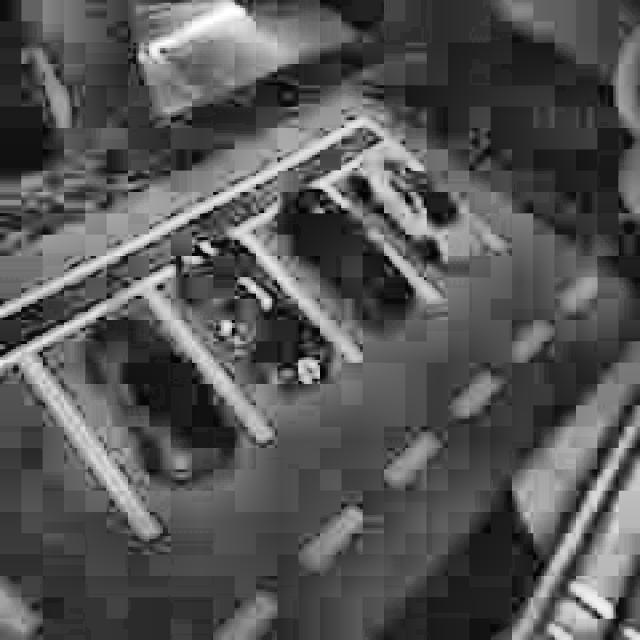car: (74, 292, 248, 486), (166, 224, 341, 400), (268, 170, 424, 332), (343, 134, 496, 283)
